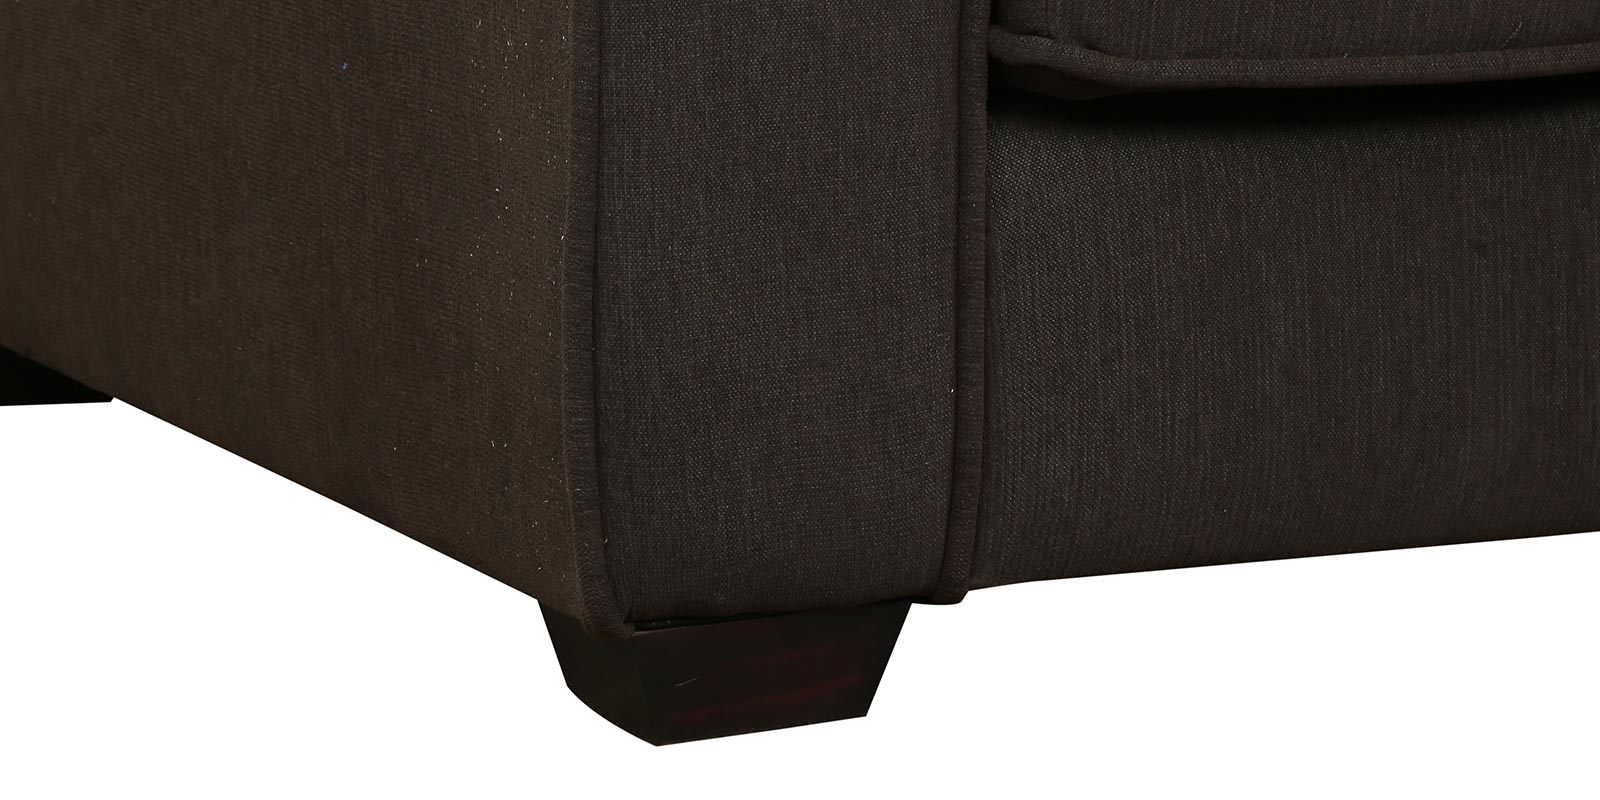Hugo Three Seater Sofa in Chestnut Brown Colour by CasaCraft: (6, 3, 1600, 742)
